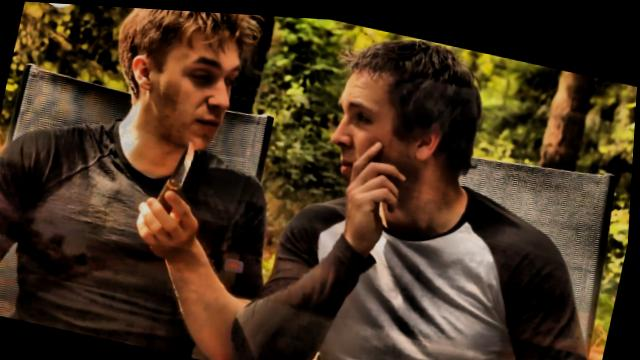knife: (129, 122, 221, 263)
